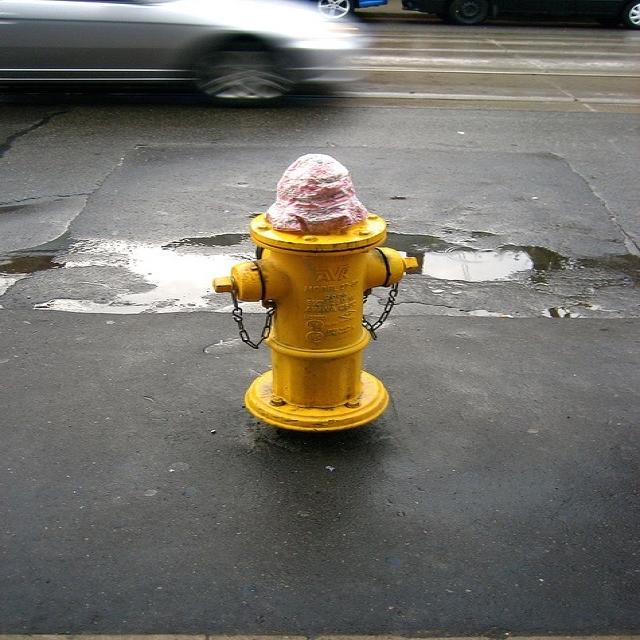fire_hydrant: (205, 141, 417, 456)
